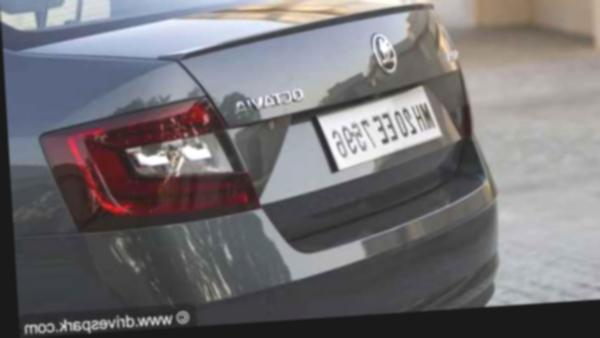License_Plate: (312, 96, 453, 161)
